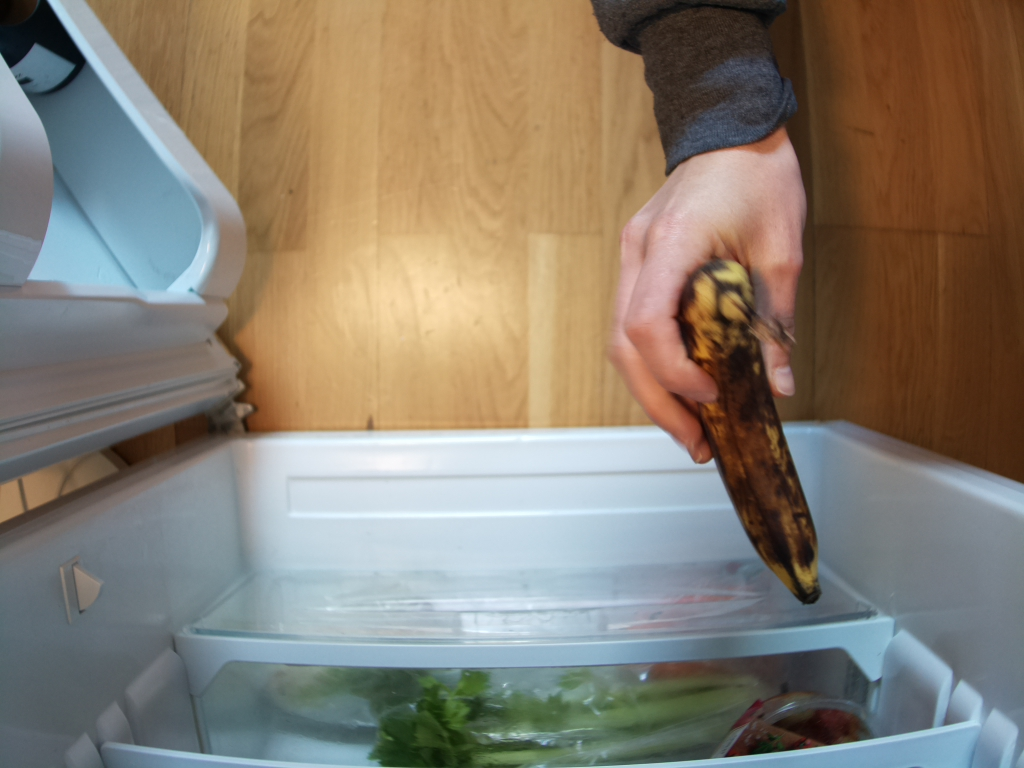banana-overripe: (677, 259, 819, 608)
